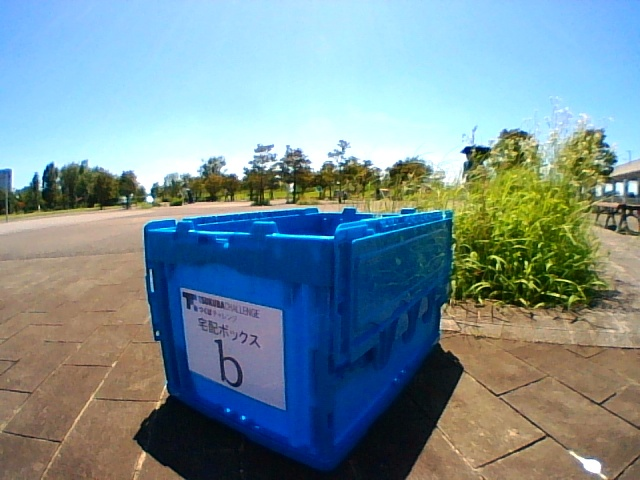blue_box: (144, 209, 440, 407)
tag_b: (196, 312, 277, 388)
